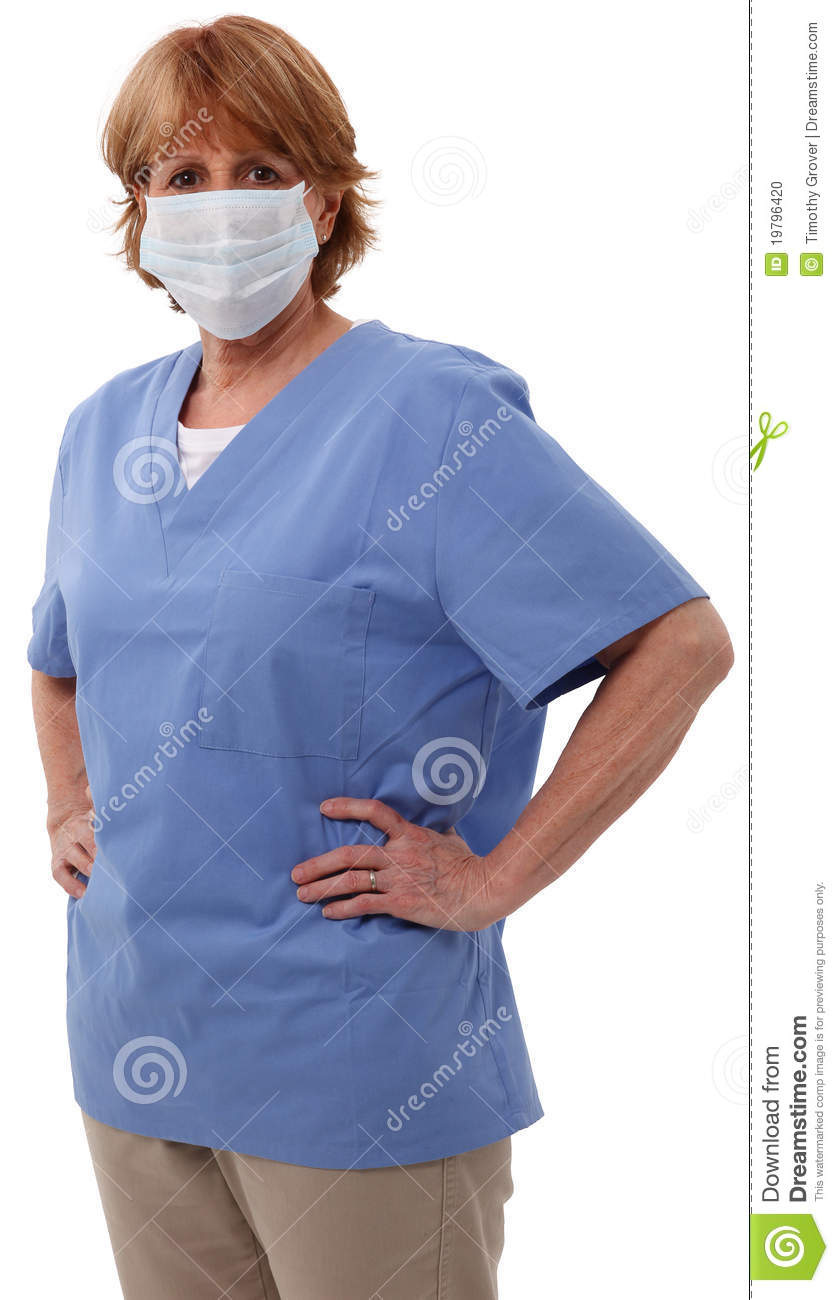mask: (135, 199, 309, 329)
